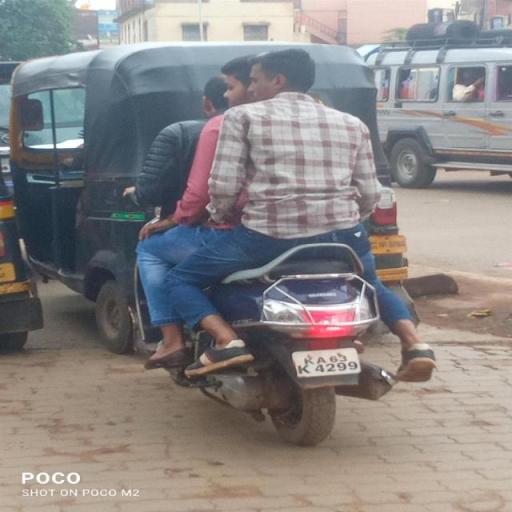tripple riding: (122, 40, 394, 246)
